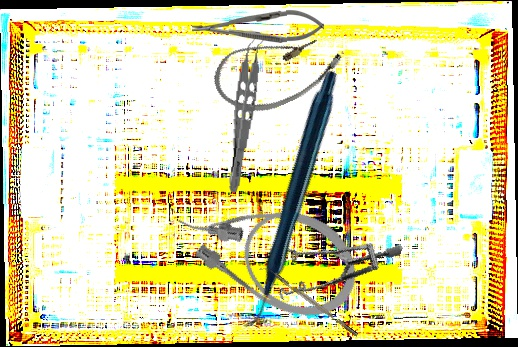Cannula: (162, 162, 376, 338), (205, 12, 350, 127)
Chopper: (258, 262, 359, 341)
Handpiece: (149, 67, 427, 331)
Needle Holder: (191, 8, 325, 45)
Speculum: (256, 201, 404, 335)
Tissue Forceps: (225, 36, 269, 194)
